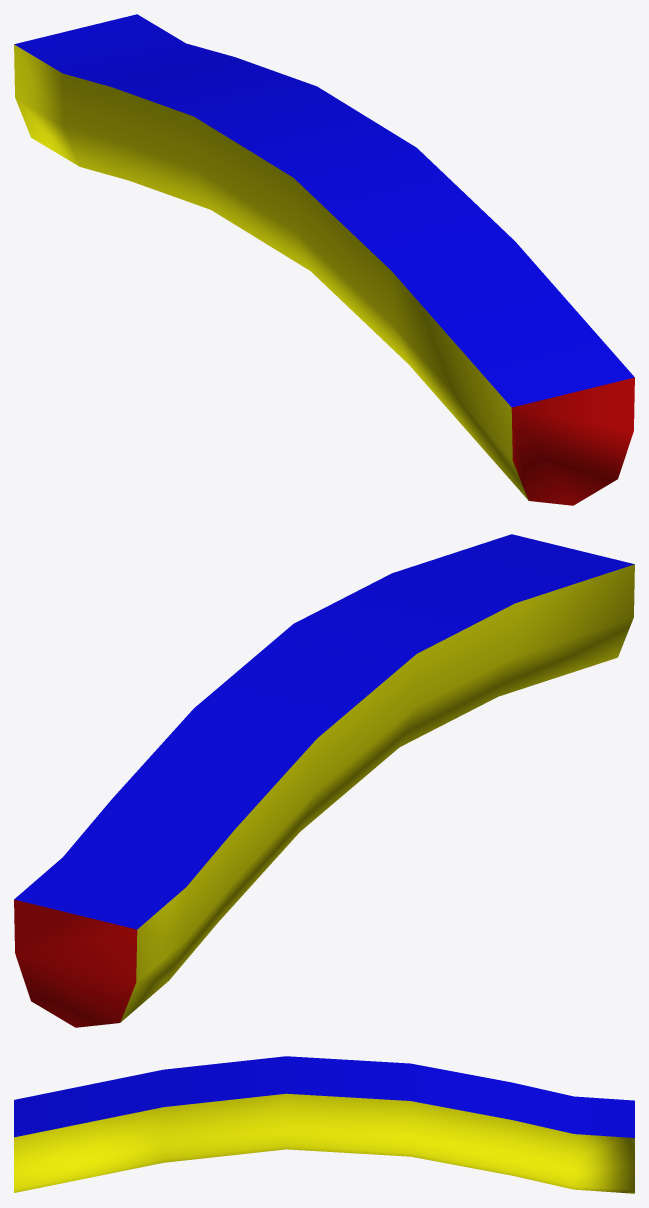
3 views of the same model, one above another, from view 1: azimuth 30°, elevation 25°; view 2: azimuth 150°, elevation 25°; view 3: azimuth 270°, elevation 25° (orthographic). The views are drawn at different scales.
Visible parts, largest first — view 1: polySurface100; view 2: polySurface100; view 3: polySurface100.
Boxes of the visible parts, bbox=[...] form: polySurface100: bbox=[14, 14, 634, 505]; polySurface100: bbox=[14, 534, 634, 1027]; polySurface100: bbox=[14, 1056, 634, 1193].
Size of the model in its own units: 23.58 by 33.69 by 165.
